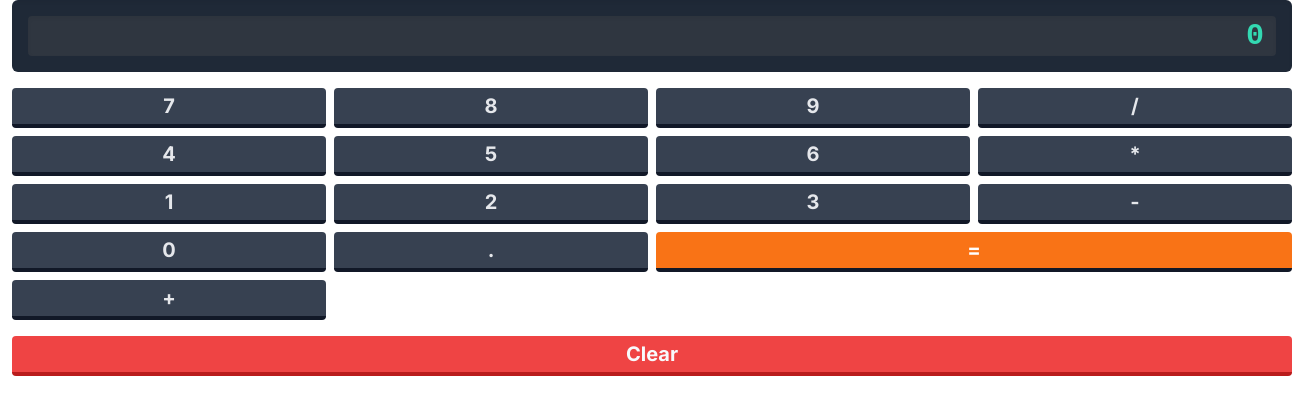
Test: NumbersCalculator › UI Interactions › Button Interactions › should replace initial zero with pressed button value
The image size is (1304, 393).
What coordinates should you click on to do the following:
click the button "1"
I would click on:
 (169, 204)
Its box is x1=12 y1=184 x2=326 y2=224.
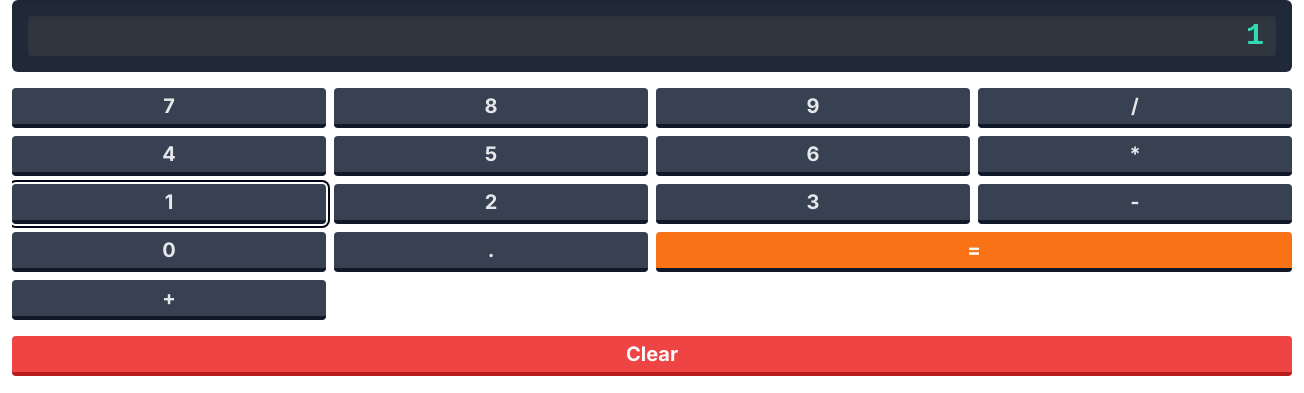
Now the field holds "1", box x1=28 y1=16 x2=1276 y2=56
